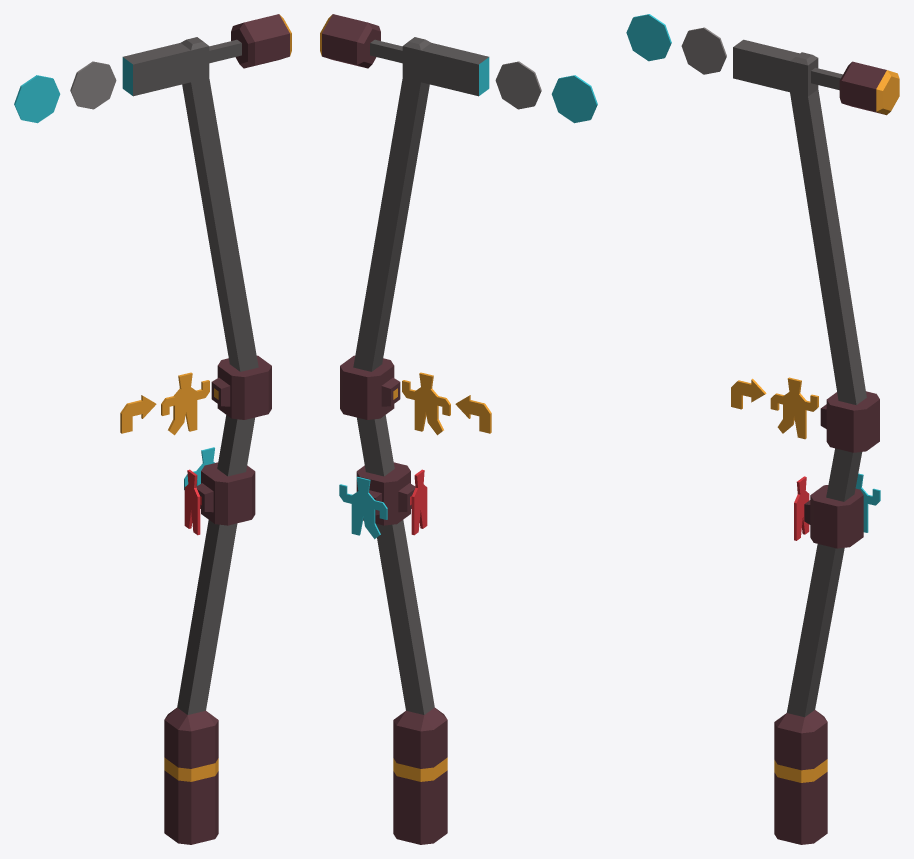
File: scifi-traffic-lights-corner-b.fbx
The picture shows the model from 3 angles, left to right: view 1: azimuth 30°, elevation 25°; view 2: azimuth 150°, elevation 25°; view 3: azimuth 330°, elevation 25°; orthographic projection.
Parts seen in each view (by area): view 1: scifi-traffic-lights-corner-b; view 2: scifi-traffic-lights-corner-b; view 3: scifi-traffic-lights-corner-b.
Boxes of the visible parts, x1,y1,x2,y2 form: scifi-traffic-lights-corner-b: (14,14,291,844); scifi-traffic-lights-corner-b: (320,14,597,844); scifi-traffic-lights-corner-b: (626,14,899,844).
Bounding box in the file's own units: 3.12 × 8.84 × 0.6488.
